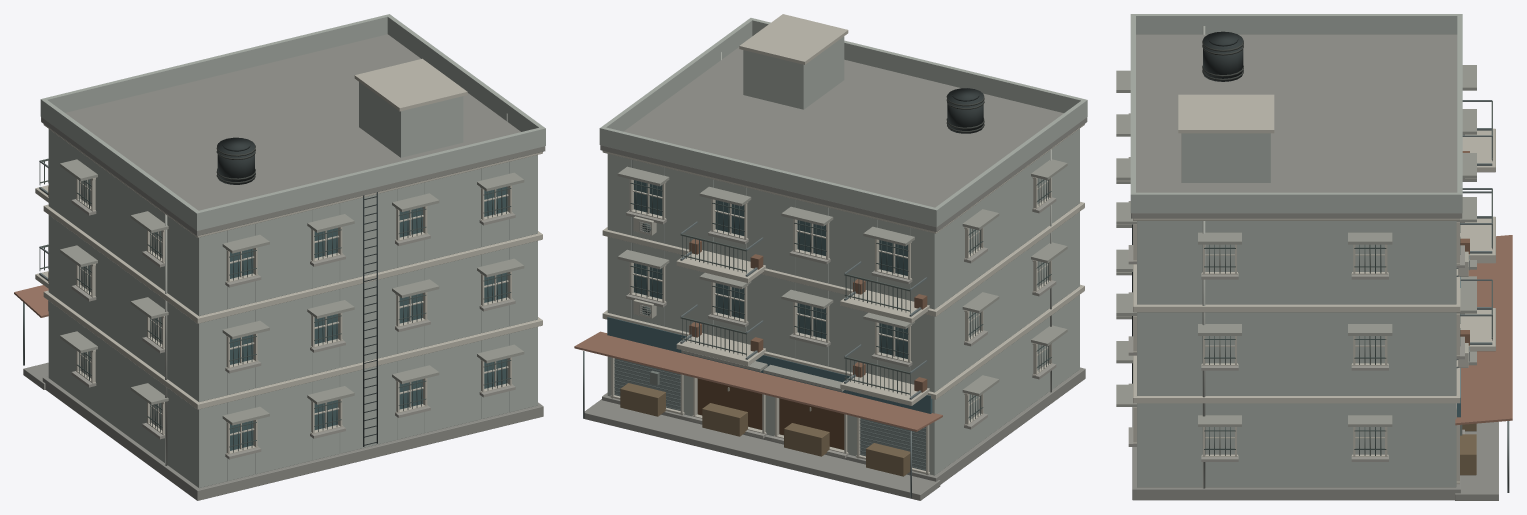
Rendered from corner_shop.glb.
3 renders of one model, left to right at view 1: azimuth 30°, elevation 25°; view 2: azimuth 150°, elevation 25°; view 3: azimuth 270°, elevation 25°, orthographic. The views are drawn at different scales.
Parts seen in each view (by area): view 1: corner_shop; view 2: corner_shop; view 3: corner_shop.
Boxes of the visible parts, bbox=[...] form: corner_shop: bbox=[14, 14, 545, 500]; corner_shop: bbox=[574, 14, 1087, 500]; corner_shop: bbox=[1116, 14, 1512, 500].
Bounding box in the file's own units: 14.33 × 11.81 × 12.4.
